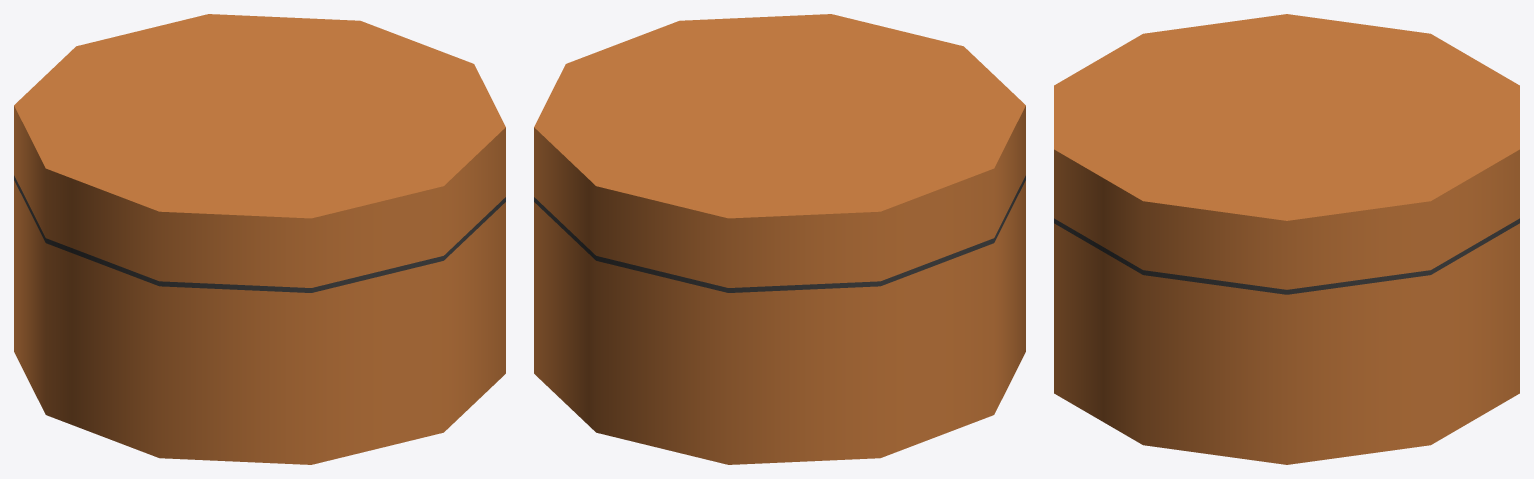
File: M_Gift_15.FBX
The picture shows the model from 3 angles, left to right: view 1: azimuth 30°, elevation 25°; view 2: azimuth 150°, elevation 25°; view 3: azimuth 270°, elevation 25°; orthographic projection.
Visible parts, largest first — view 1: Cylinder025; view 2: Cylinder025; view 3: Cylinder025.
Boxes of the visible parts, x1=… form: Cylinder025: x1=14, y1=14, x2=505, y2=464; Cylinder025: x1=534, y1=14, x2=1025, y2=464; Cylinder025: x1=1054, y1=14, x2=1519, y2=464.
Size of the model in its own units: 61.6 by 33.87 by 58.59.
1 material, 1 textured.
